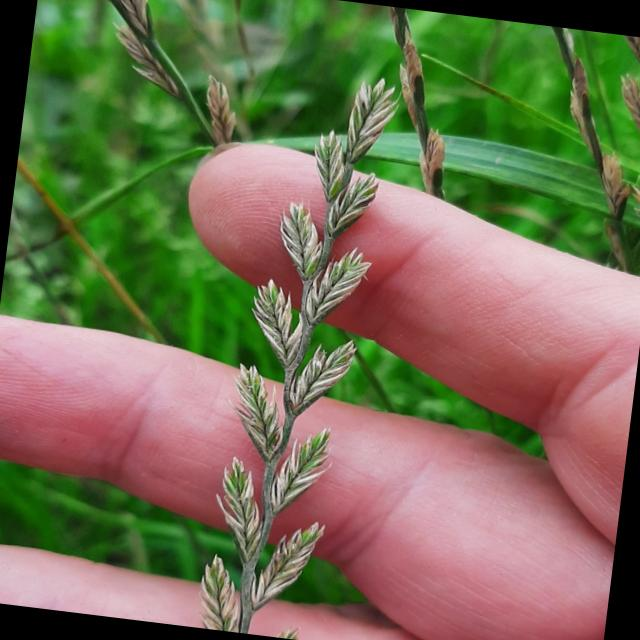Lolium: (187, 61, 404, 640)
